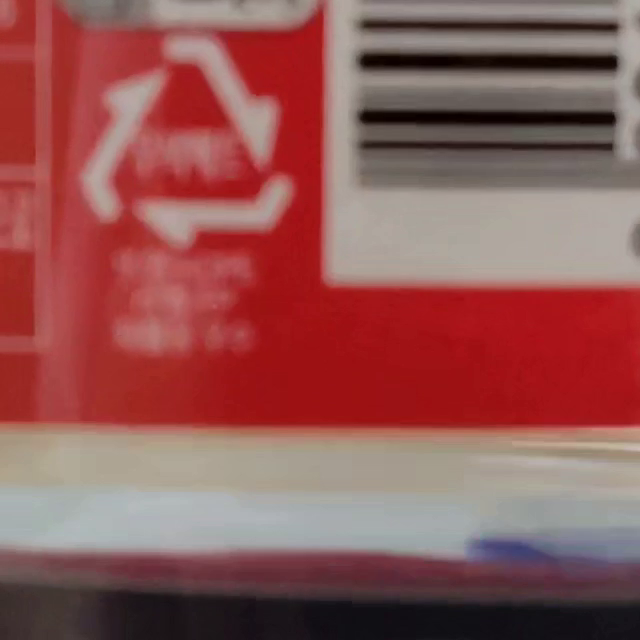ColorlessPet: (81, 39, 297, 247)
